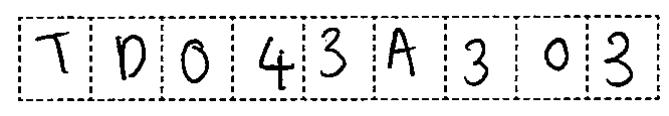0: (176, 32, 214, 89), (538, 33, 572, 76)
3: (599, 26, 637, 92), (461, 32, 492, 91), (317, 26, 349, 81)
4: (251, 31, 297, 94)
A: (384, 23, 422, 82)
D: (107, 29, 151, 85)
T: (29, 26, 79, 79)
